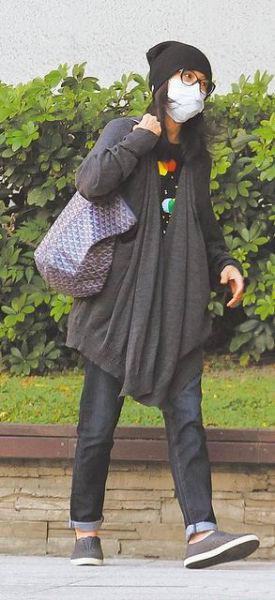OK: (164, 64, 218, 118)
